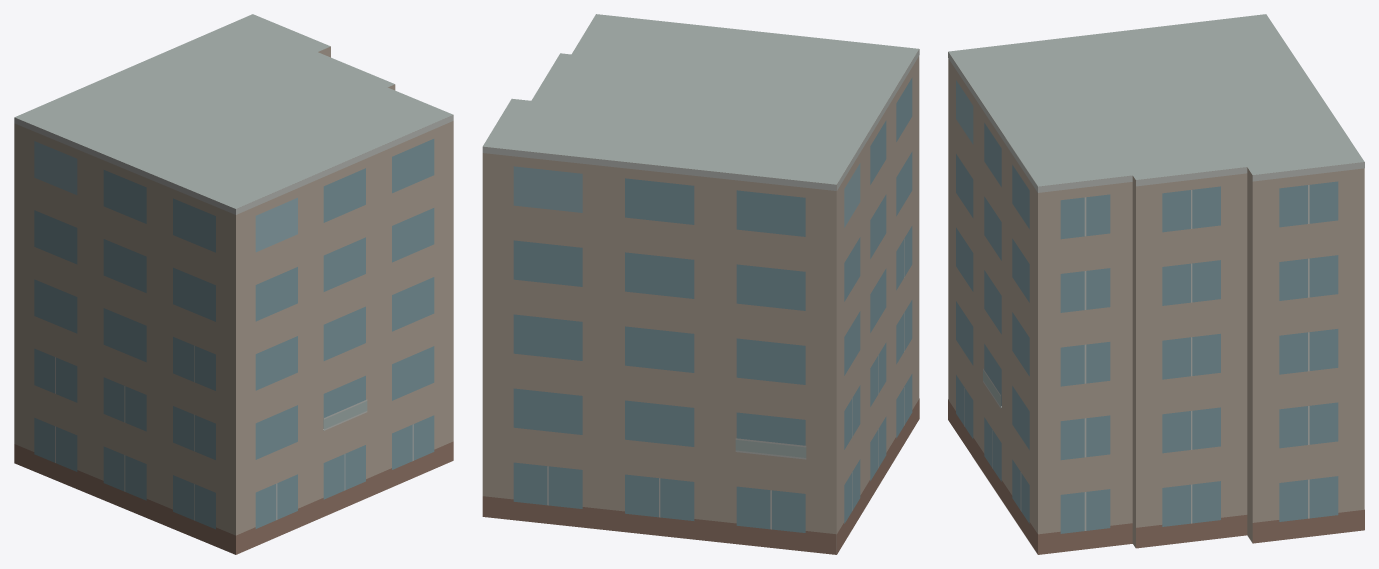
Rendered from survey-upis-32612979.glb.
The picture shows the model from 3 angles, left to right: view 1: azimuth 30°, elevation 25°; view 2: azimuth 150°, elevation 25°; view 3: azimuth 270°, elevation 25°; orthographic projection. The views are drawn at different scales.
Visible parts, largest first — view 1: survey-upis-32612979.tmp; view 2: survey-upis-32612979.tmp; view 3: survey-upis-32612979.tmp.
Boxes of the visible parts, bbox=[...] form: survey-upis-32612979.tmp: bbox=[14, 14, 453, 554]; survey-upis-32612979.tmp: bbox=[482, 14, 919, 554]; survey-upis-32612979.tmp: bbox=[948, 14, 1364, 554].
Bounding box in the file's own units: 14.18 × 14.1 × 14.47.
